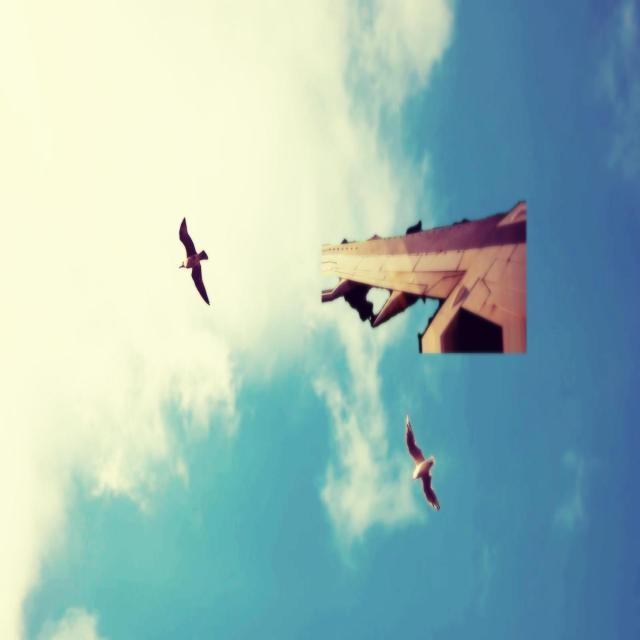airplane: (320, 199, 526, 354)
